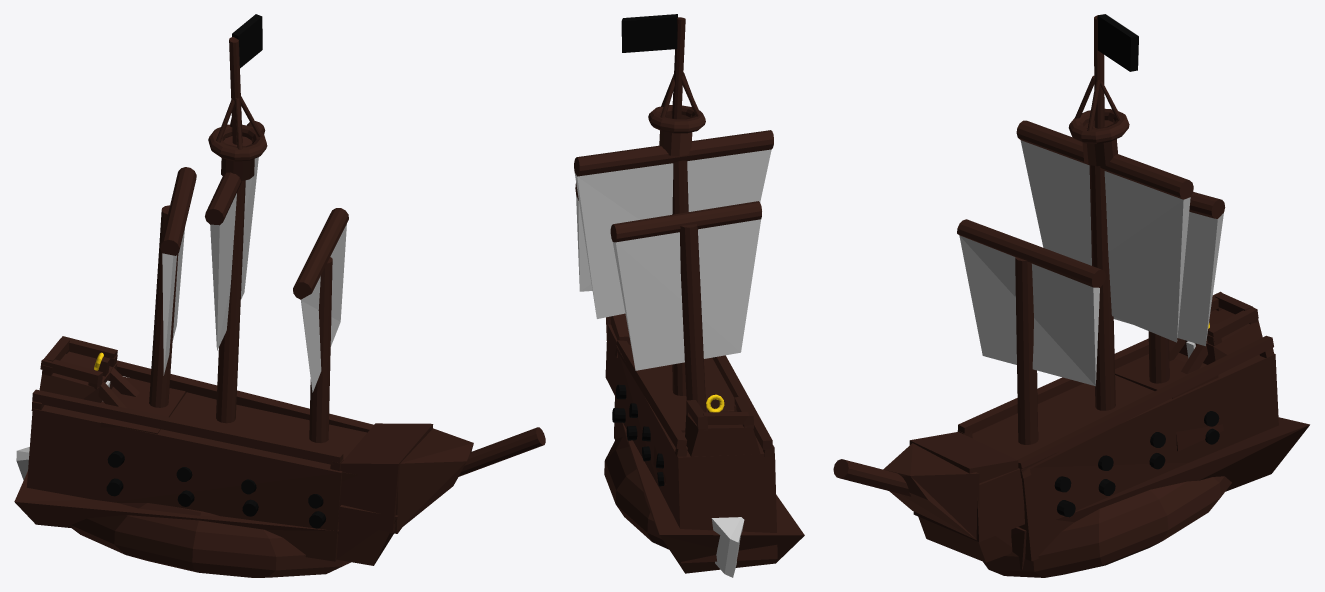
Rendered from ship.obj.
The picture shows the model from 3 angles, left to right: view 1: azimuth 30°, elevation 25°; view 2: azimuth 150°, elevation 25°; view 3: azimuth 270°, elevation 25°; orthographic projection. The views are drawn at different scales.
Visible parts, largest first — view 1: group970421097; view 2: group970421097; view 3: group970421097.
Boxes of the visible parts, bbox=[...] form: group970421097: bbox=[14, 14, 545, 577]; group970421097: bbox=[574, 14, 804, 577]; group970421097: bbox=[833, 14, 1309, 577].
Size of the model in its own units: 0.8401 by 1.16 by 0.9306.
